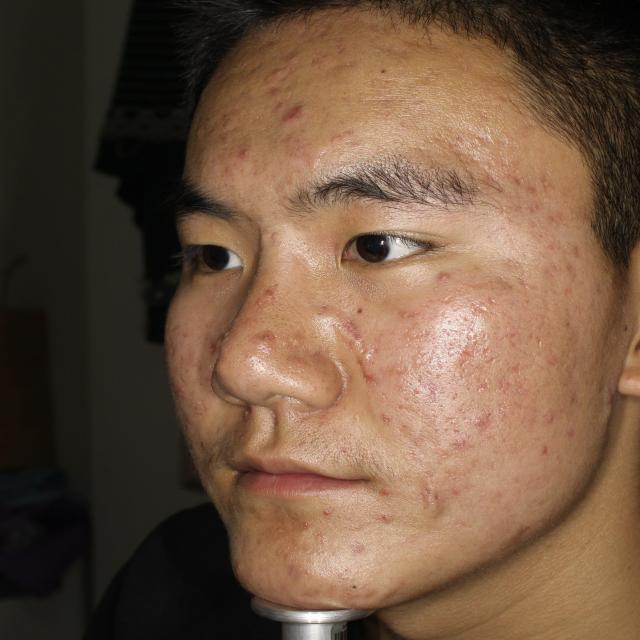papule: (264, 65, 320, 99), (415, 482, 460, 521), (478, 272, 522, 302), (352, 570, 391, 603), (256, 280, 287, 316), (466, 415, 506, 441), (530, 392, 563, 422), (445, 428, 482, 454), (342, 327, 382, 350), (284, 138, 316, 166), (374, 411, 404, 440), (448, 337, 476, 364), (367, 492, 396, 518), (494, 523, 525, 547), (355, 362, 383, 386), (224, 142, 254, 164), (256, 332, 288, 352), (514, 168, 536, 197), (434, 266, 461, 287), (268, 103, 302, 119), (574, 245, 593, 271)
